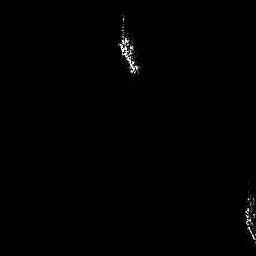ship: (116, 12, 140, 76), (241, 186, 256, 244)
